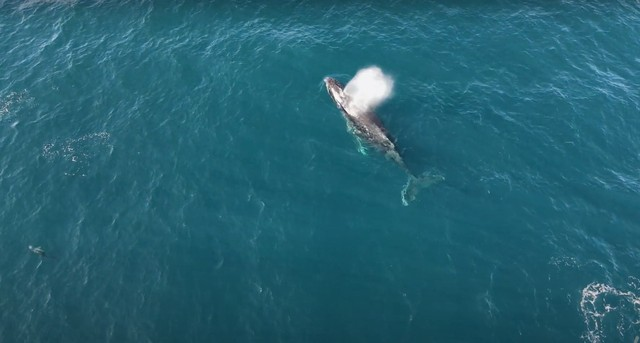whale: (313, 56, 461, 216)
